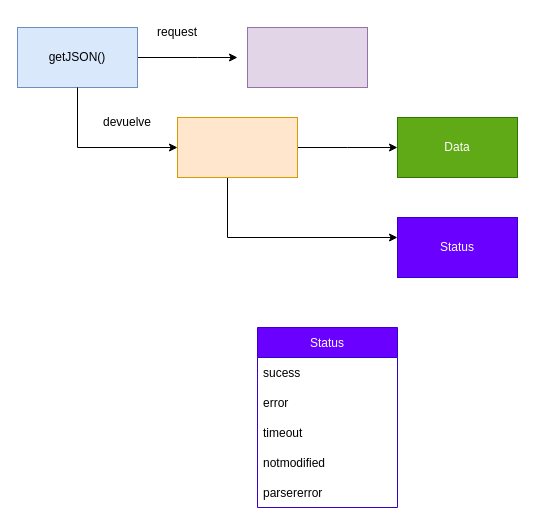
The diagram is 535 pixels wide and 525 high, and some of its shapes have lost their labels. The shapes that lost their labels are listed below. From the top down, each one's centre as x and y in pixels, then its label:
At (x=307, y=57): "URL".
At (x=237, y=147): "Success".
